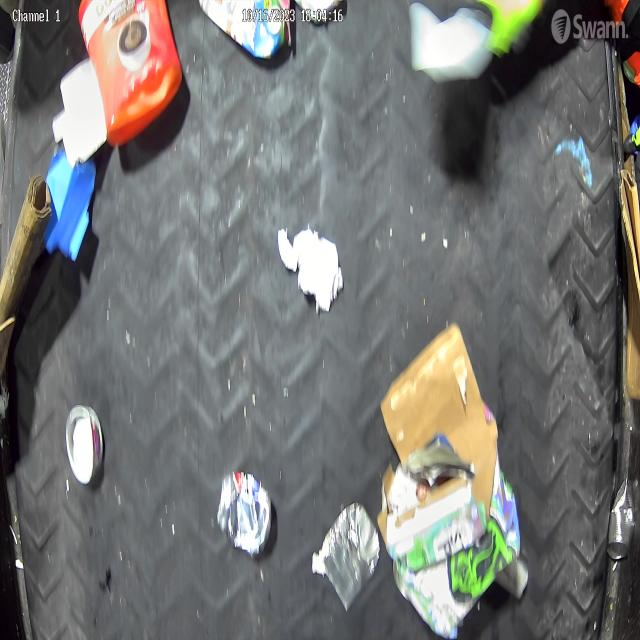can: (322, 495, 382, 611), (215, 472, 275, 560), (68, 409, 104, 481)
non_white_jug: (77, 3, 182, 136)
